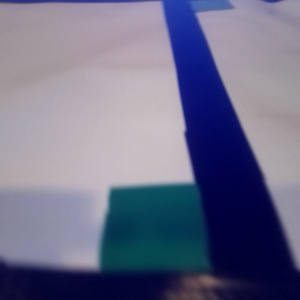bottom_right: (165, 1, 234, 12)
top_left: (101, 185, 266, 300)
